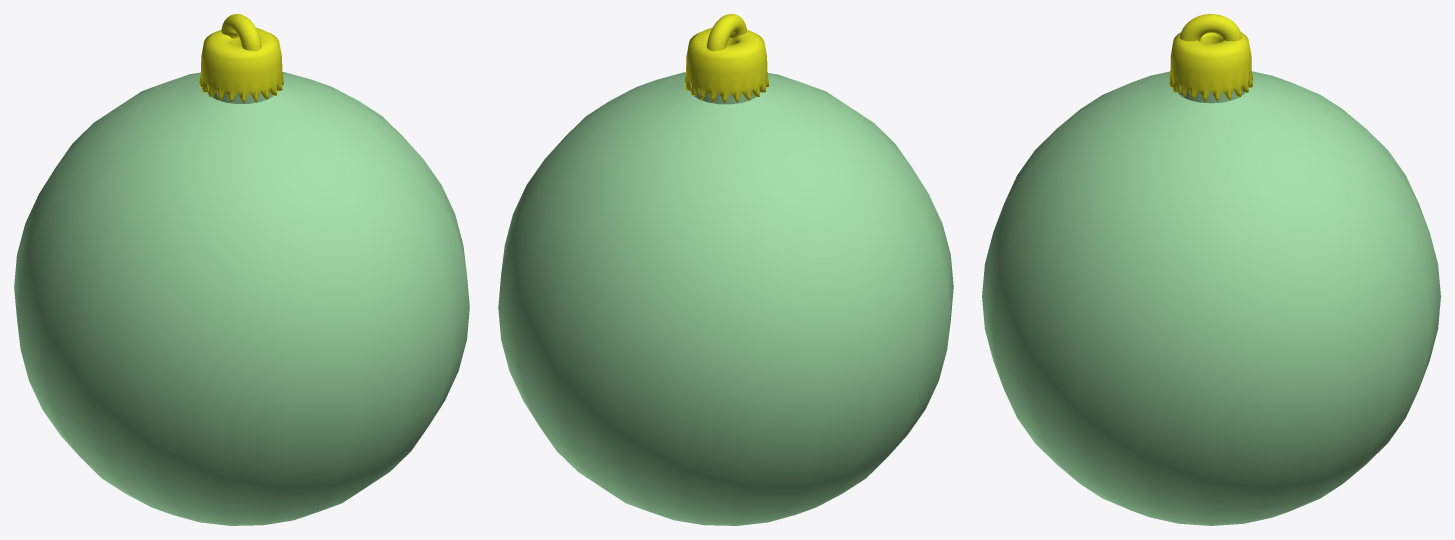
The model's file is foco4.obj.
3 renders of one model, left to right at view 1: azimuth 30°, elevation 25°; view 2: azimuth 150°, elevation 25°; view 3: azimuth 270°, elevation 25°, orthographic.
Parts seen in each view (by area): view 1: Foco, Foco.001; view 2: Foco, Foco.001; view 3: Foco, Foco.001.
Boxes of the visible parts, x1=… form: Foco: x1=14, y1=72, x2=469, y2=525; Foco.001: x1=199, y1=14, x2=283, y2=103; Foco: x1=498, y1=72, x2=953, y2=525; Foco.001: x1=684, y1=14, x2=768, y2=103; Foco: x1=982, y1=71, x2=1440, y2=525; Foco.001: x1=1169, y1=14, x2=1252, y2=101.
Size of the model in its own units: 13.51 by 15.9 by 13.51.
2 materials, 2 textured.
